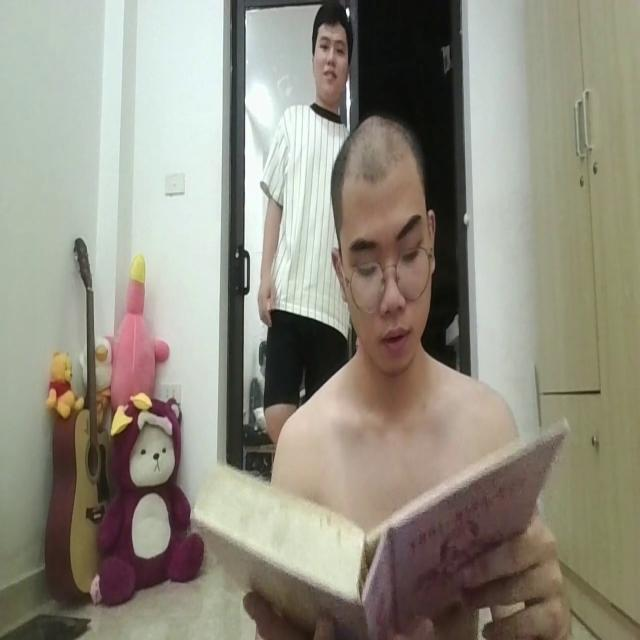book: (181, 432, 582, 638)
extra_person: (253, 9, 366, 417)
student: (253, 112, 566, 640)
